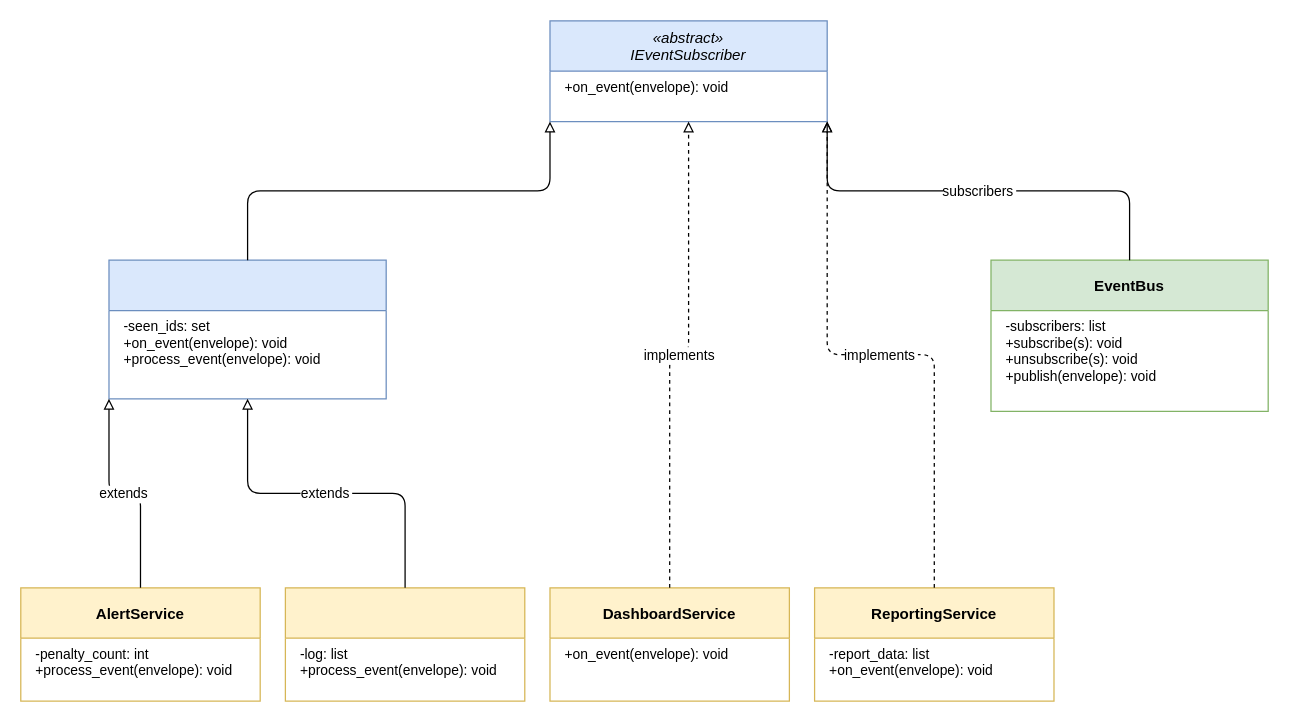
Some shapes in this 1289 by 722 pixel diagram are drawn without their labels. Each missing label, with the box of its shape:
LoggingService: (284, 587, 525, 701)
«abstract» IdempotentReceiver: (108, 259, 386, 399)
